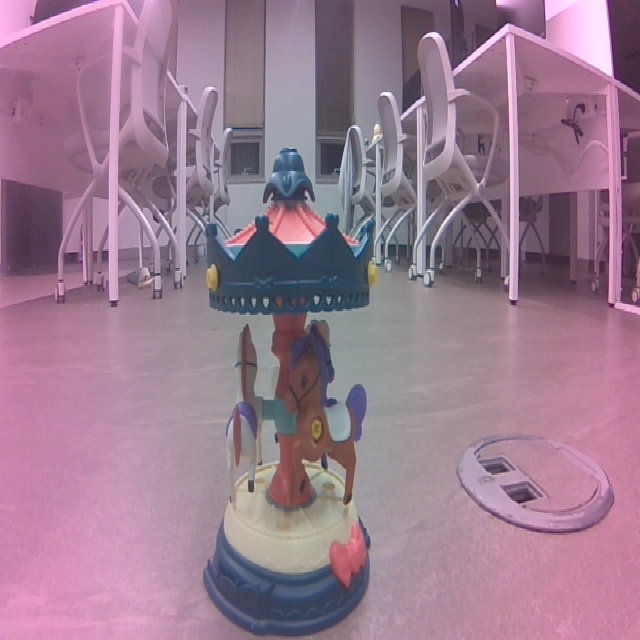목적지: (231, 142, 483, 604)
